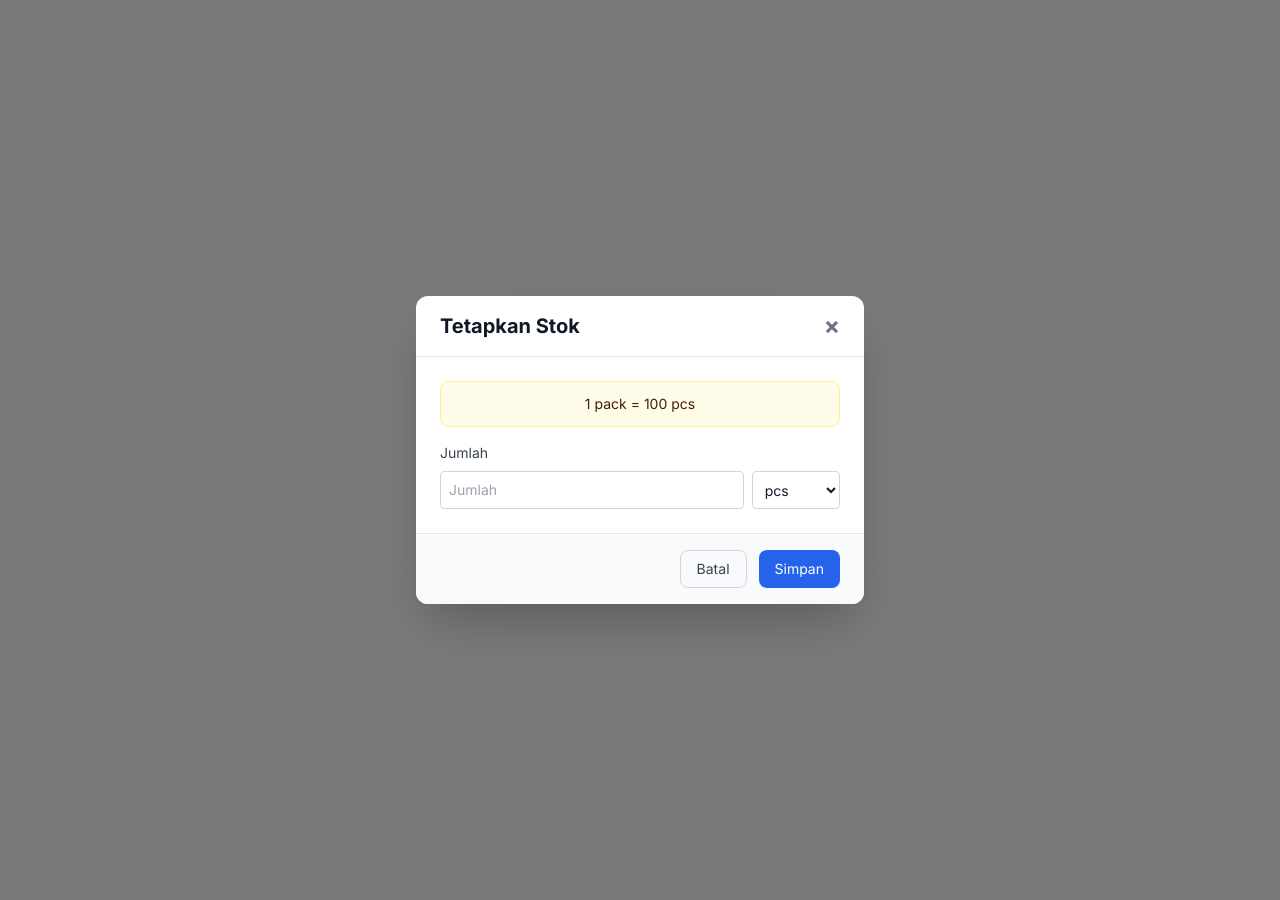
Test: StockModal › Tetapkan Stok still requires a quantity
Step 1. Click the button "Simpan" → (799, 569), box [758,550,840,588]
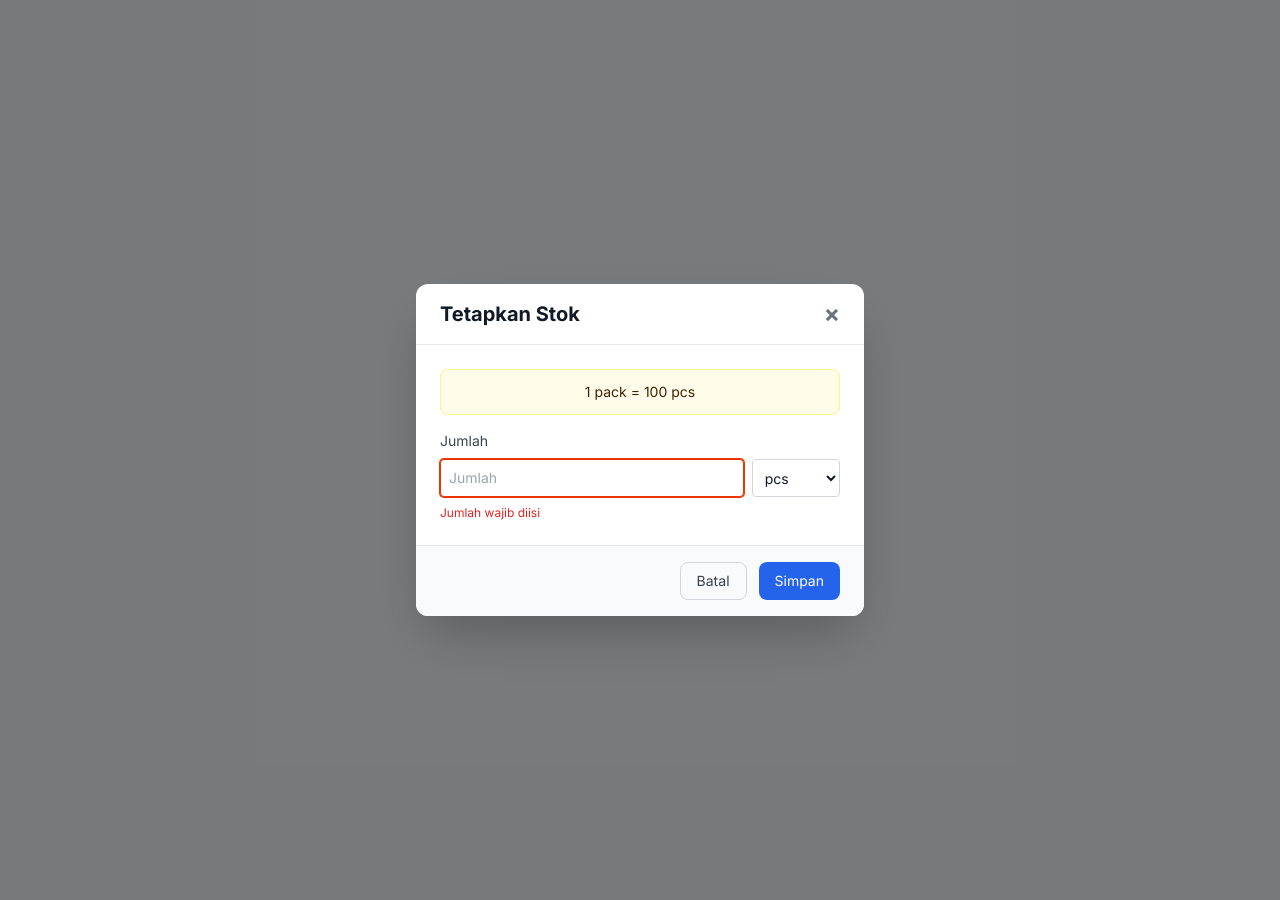
Check: the text "Jumlah wajib diisi" is shown, box [440,505,540,520]
